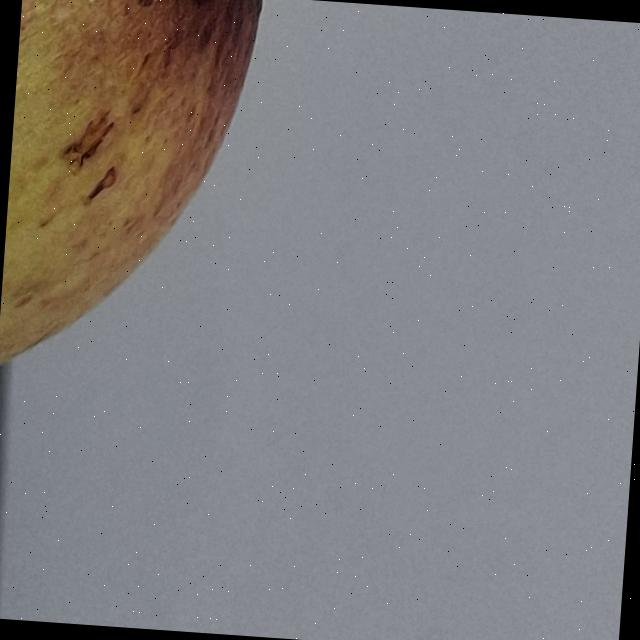mangosteen: (0, 0, 477, 628)
